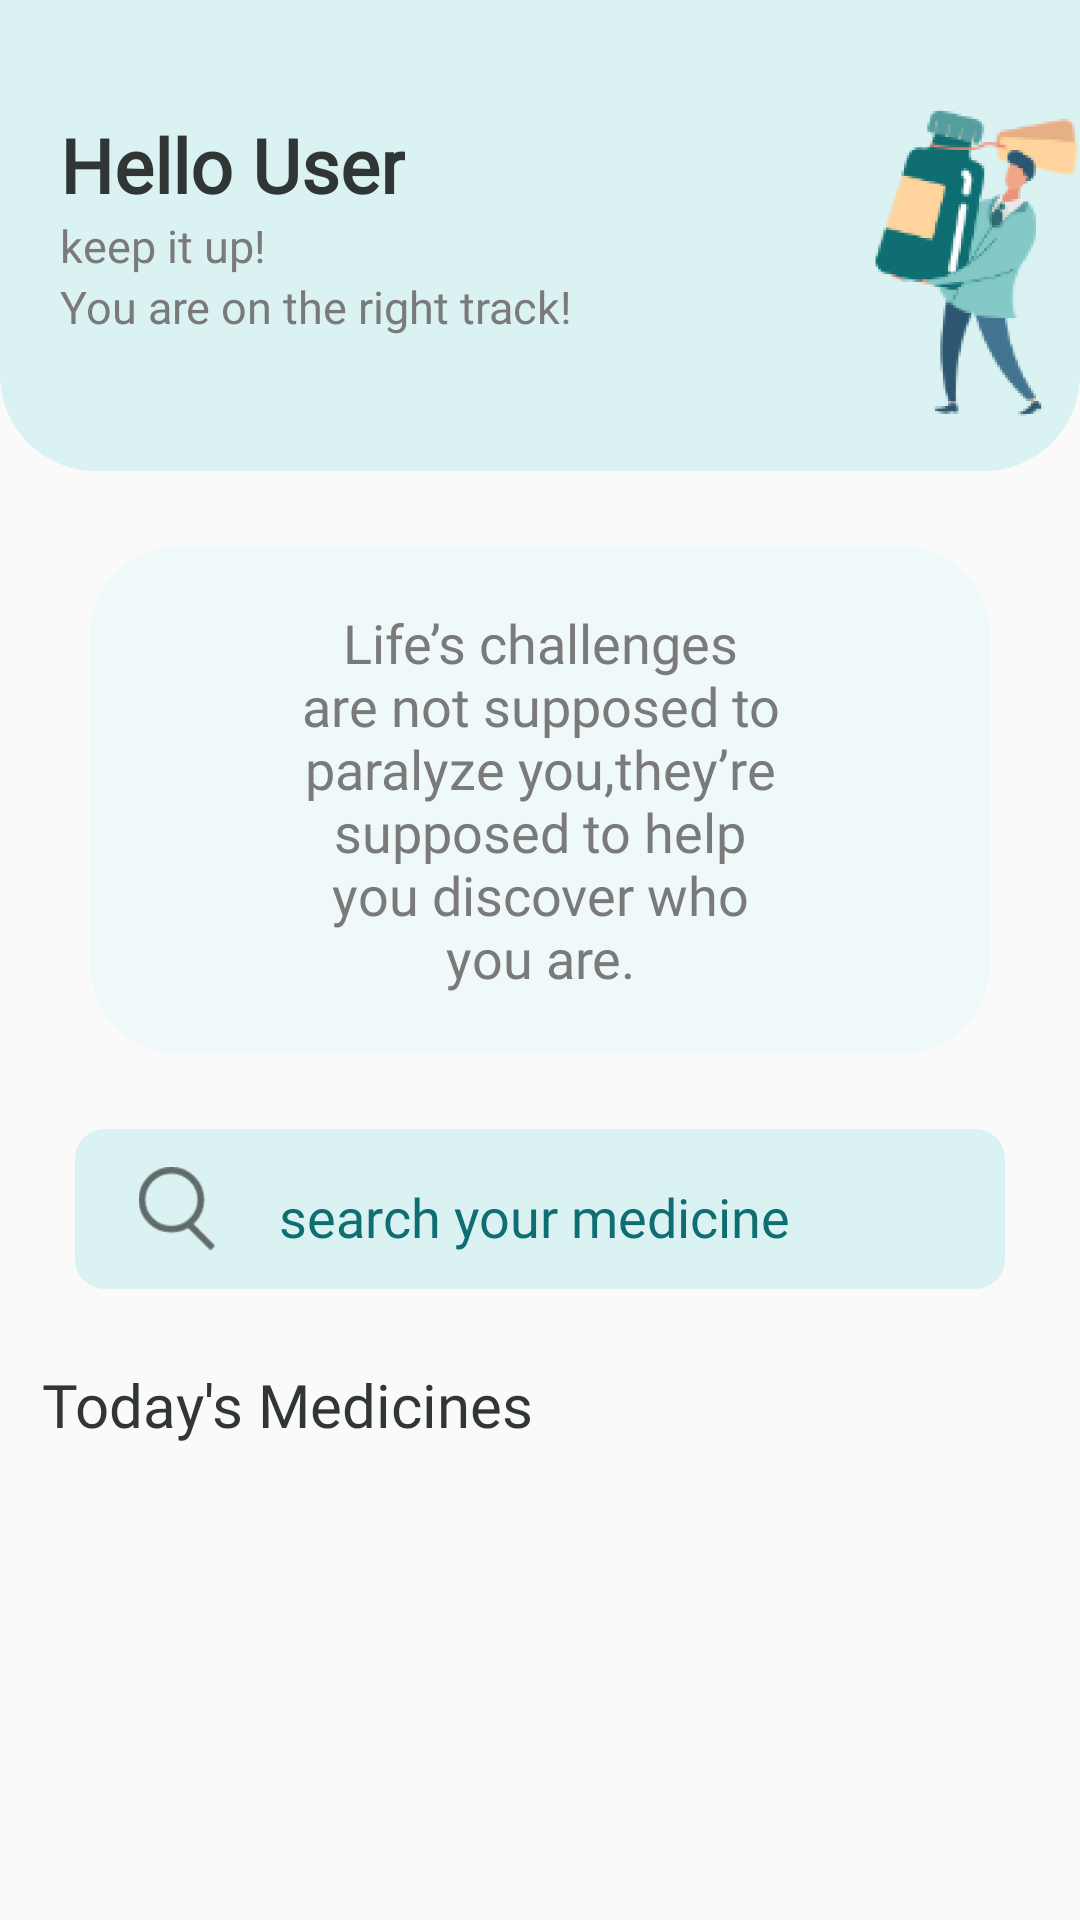

Where icons sit on this 1080px×1920px app screen, as rect(x1, y1, x2, y2):
doctor: rect(875, 111, 1078, 416)
